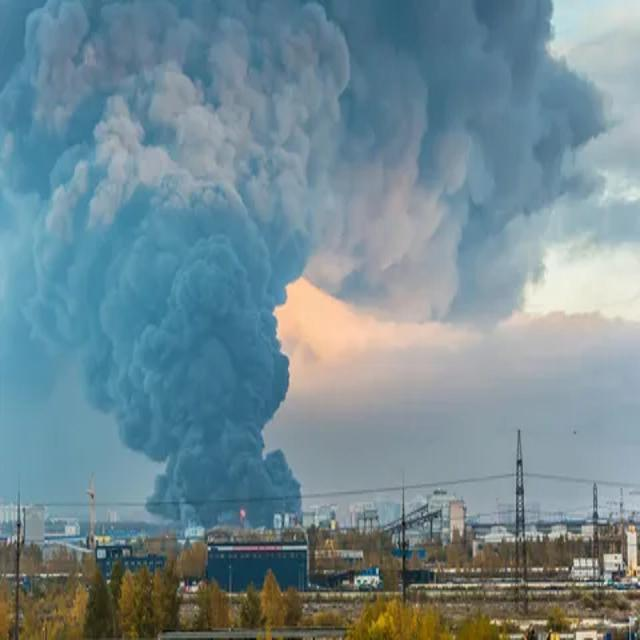Smoke: (2, 0, 321, 522)
